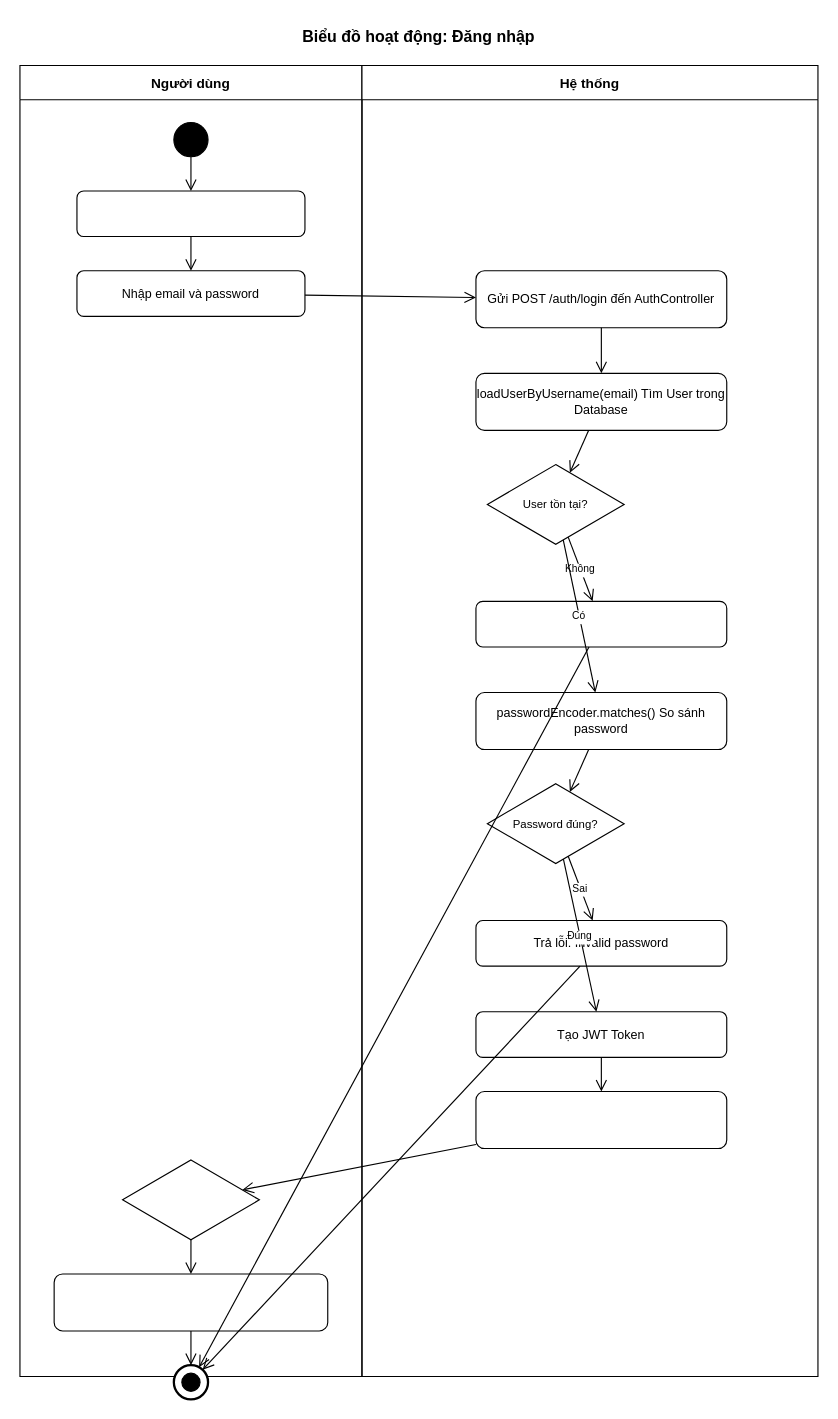
This 838x1419 diagram has some shape labels left out. Each missing label, with the box of its shape:
Chọn Đăng nhập: (76, 190, 305, 237)
Cập nhật lastLogin Trả về { jwt, user }: (475, 1090, 727, 1149)
Trả lỗi: User not found: (475, 600, 727, 647)
Xác định Role?: (121, 1159, 259, 1240)
Điều hướng theo role: Admin / Store / Branch / Cashier: (53, 1273, 328, 1331)
